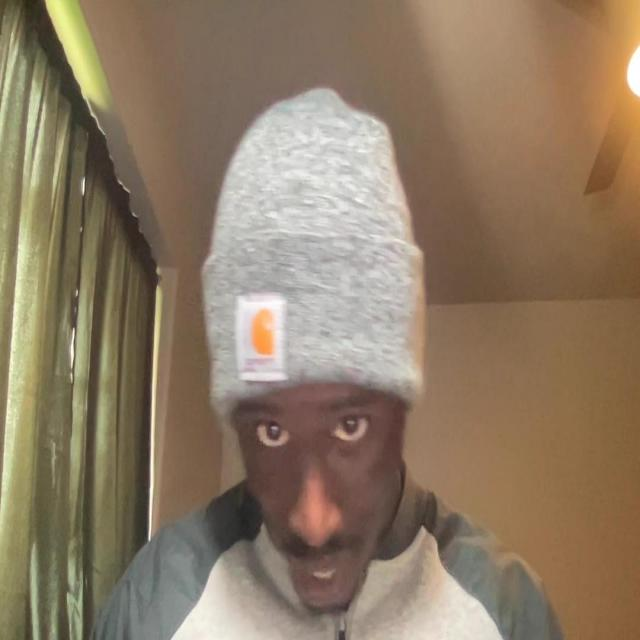face: (202, 167, 429, 612)
